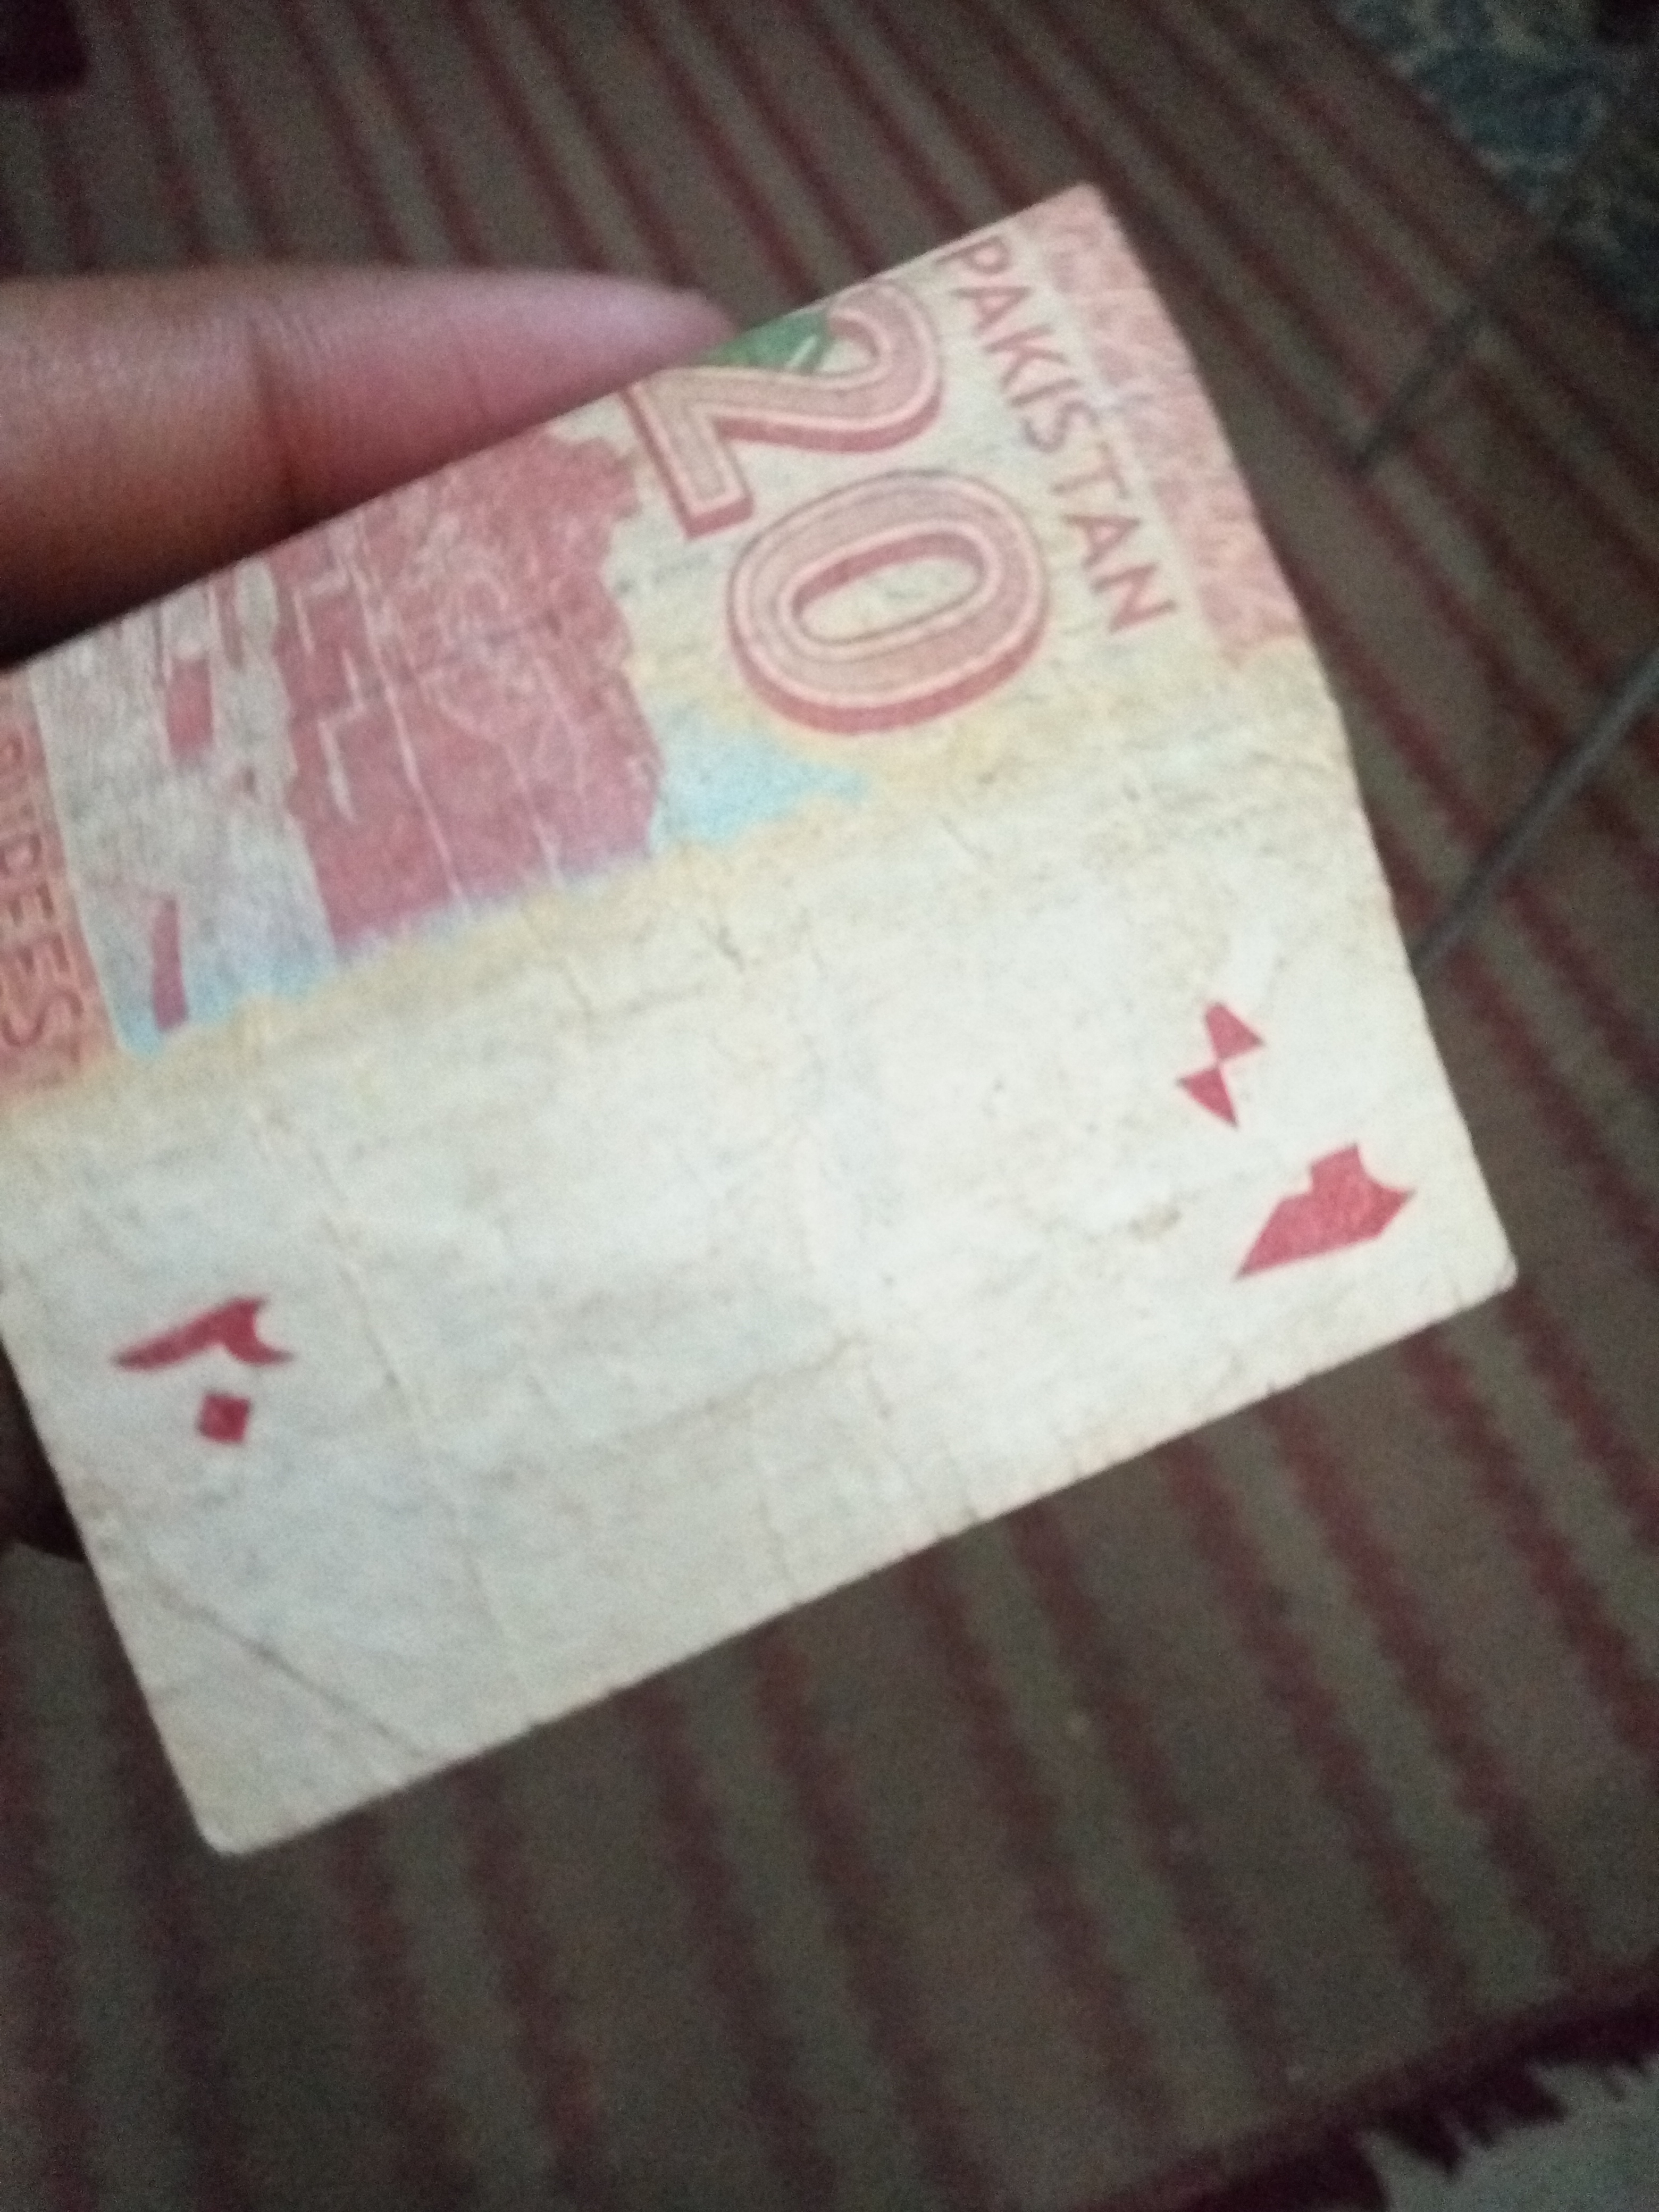20 rupee: (38, 179, 1469, 1822)
